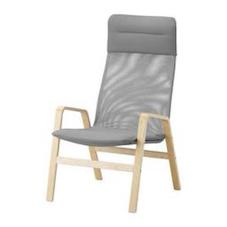chair: (11, 7, 207, 219)
